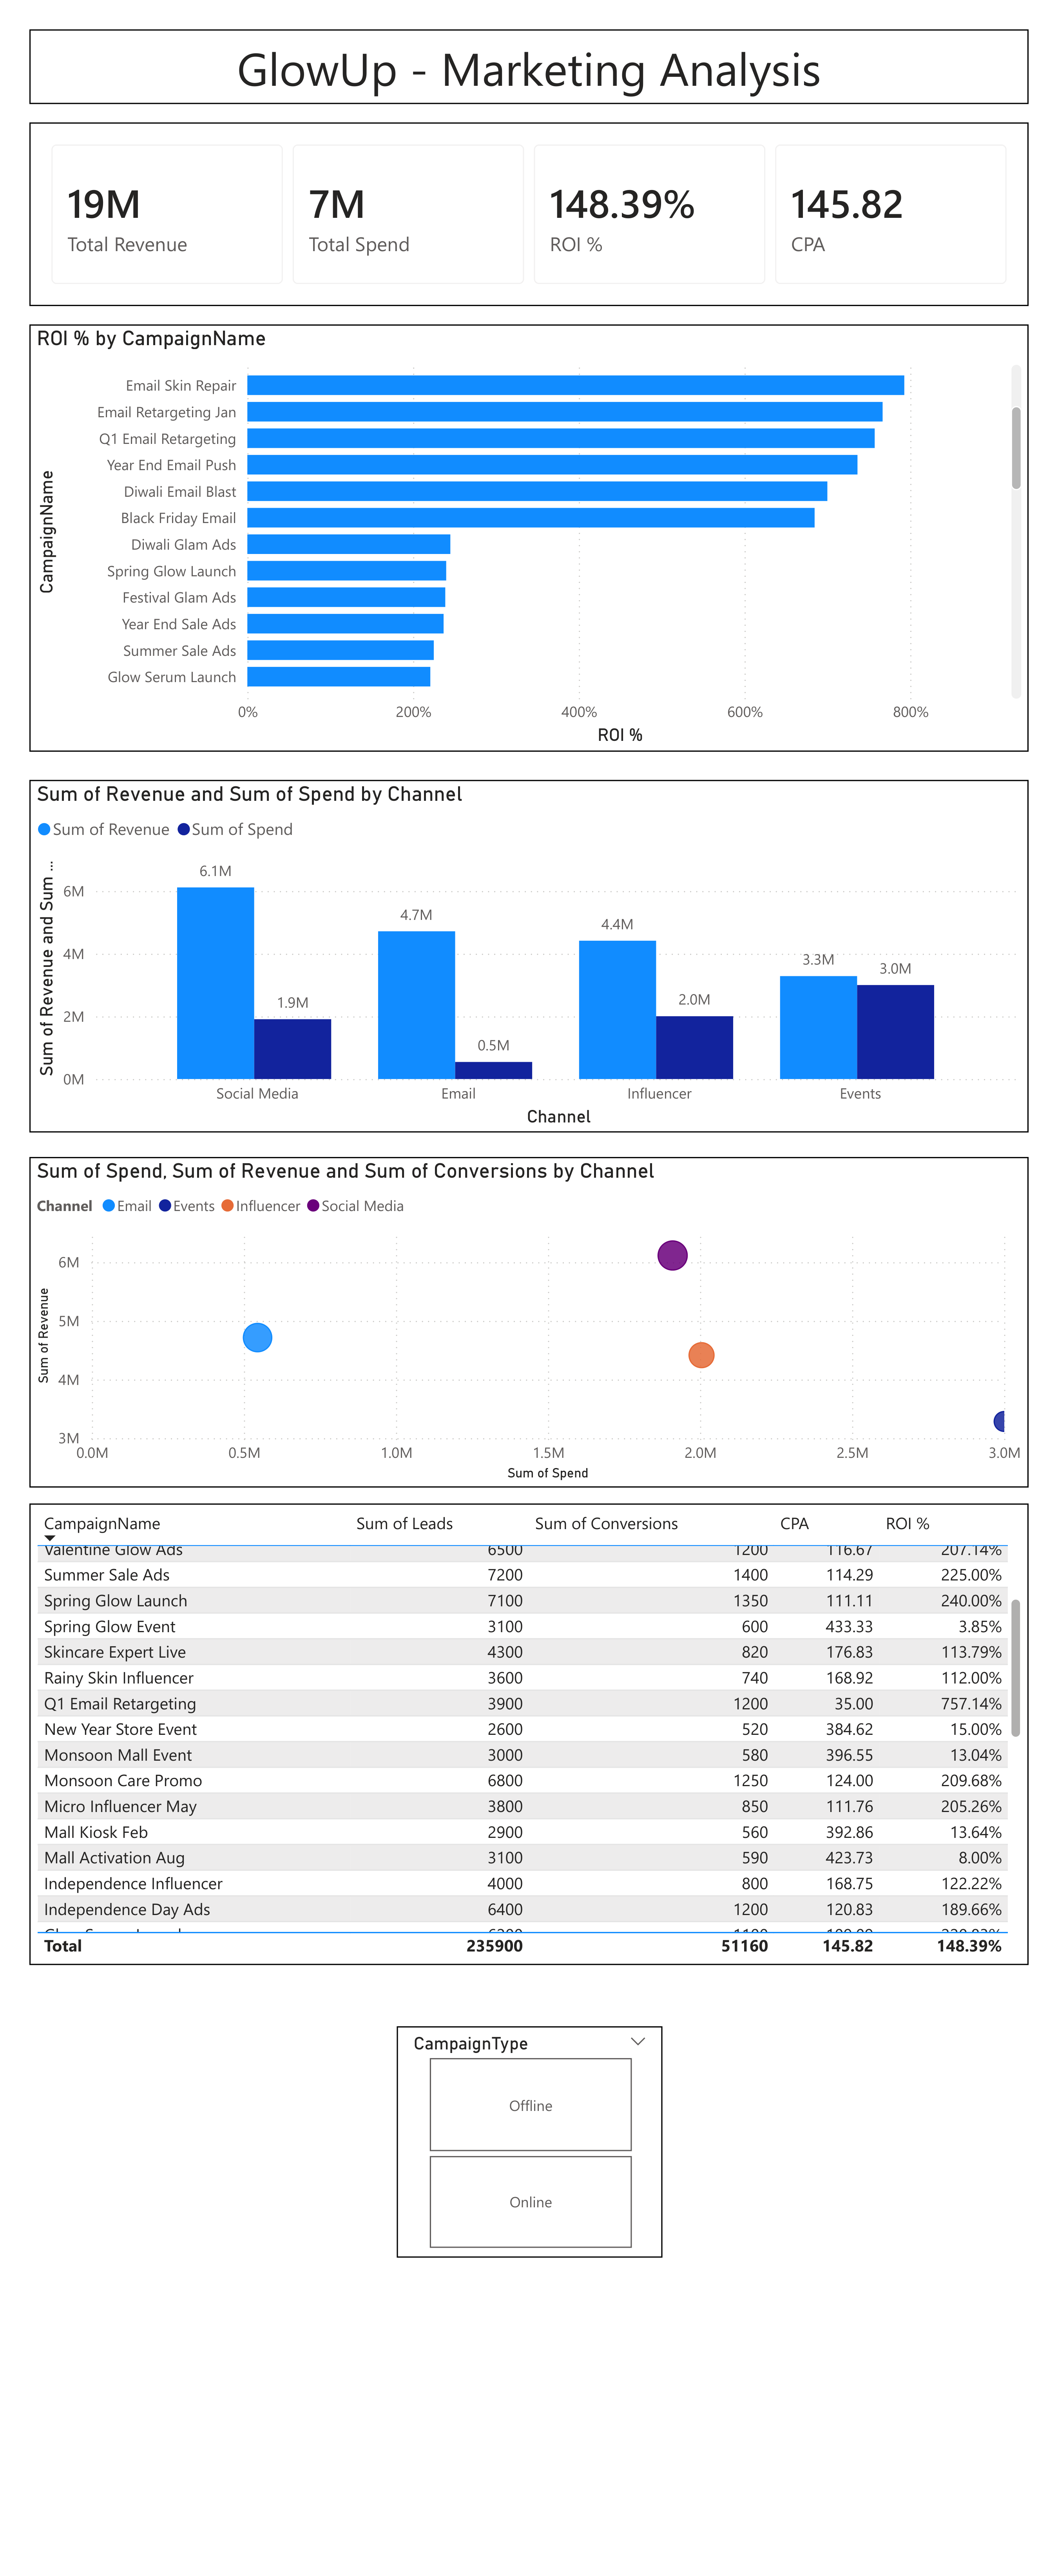

What the dashboard file says about the page in this screenshot:
{"tool":"powerbi","page":{"name":"Page 1","canvas":[816,2056],"ordinal":0},"visuals":[{"type":"textbox","box":[0,0,816,61],"z":0},{"type":"cardVisual","fields":{"Data":["Marketing_Database.Total Revenue","Marketing_Database.Total Spend","Marketing_Database.ROI %","Marketing_Database.CPA","Marketing_Database.Total Conversions"]},"box":[0,76,816,150],"z":1000},{"type":"barChart","fields":{"Y":["Marketing_Database.ROI %"],"Category":["Marketing_Database.Channel"]},"box":[0,241,816,349],"z":2000},{"type":"clusteredColumnChart","fields":{"Category":["Marketing_Database.Channel"],"Y":["Marketing_Database.Total Revenue","Marketing_Database.Total Spend"]},"box":[0,613,816,288],"z":3000},{"type":"scatterChart","fields":{"X":["Marketing_Database.ROI %"],"Series":["Marketing_Database.Channel"],"Size":["Sum(Marketing_Database.Conversions)"],"Y":["Marketing_Database.CPA"]},"box":[0,921,816,270],"z":3001},{"type":"tableEx","fields":{"Values":["Marketing_Database.CampaignName","Sum(Marketing_Database.Leads)","Sum(Marketing_Database.Conversions)","Marketing_Database.CPA","Marketing_Database.ROI %","Marketing_Database.Lead Conversion Rate %"]},"box":[0,1204.3,815.7,377.1],"z":3002},{"type":"slicer","fields":{"Values":["Marketing_Database.CampaignType"]},"box":[300,1631.4,217.1,188.6],"z":3003}]}

Visuals, with their boxes in screenshot pixels (x1, y1, x2, y2):
textbox: <region>20, 20, 1029, 96</region>
cardVisual - Marketing_Database.Total Revenue x Marketing_Database.Total Spend: <region>20, 114, 1029, 299</region>
barChart - Marketing_Database.ROI % x Marketing_Database.Channel: <region>20, 318, 1029, 749</region>
clusteredColumnChart - Marketing_Database.Channel x Marketing_Database.Total Revenue: <region>20, 778, 1029, 1133</region>
scatterChart - Marketing_Database.ROI % x Marketing_Database.Channel: <region>20, 1158, 1029, 1492</region>
tableEx - Marketing_Database.CampaignName x Sum(Marketing_Database.Leads): <region>20, 1508, 1028, 1974</region>
slicer - Marketing_Database.CampaignType: <region>391, 2036, 659, 2269</region>
